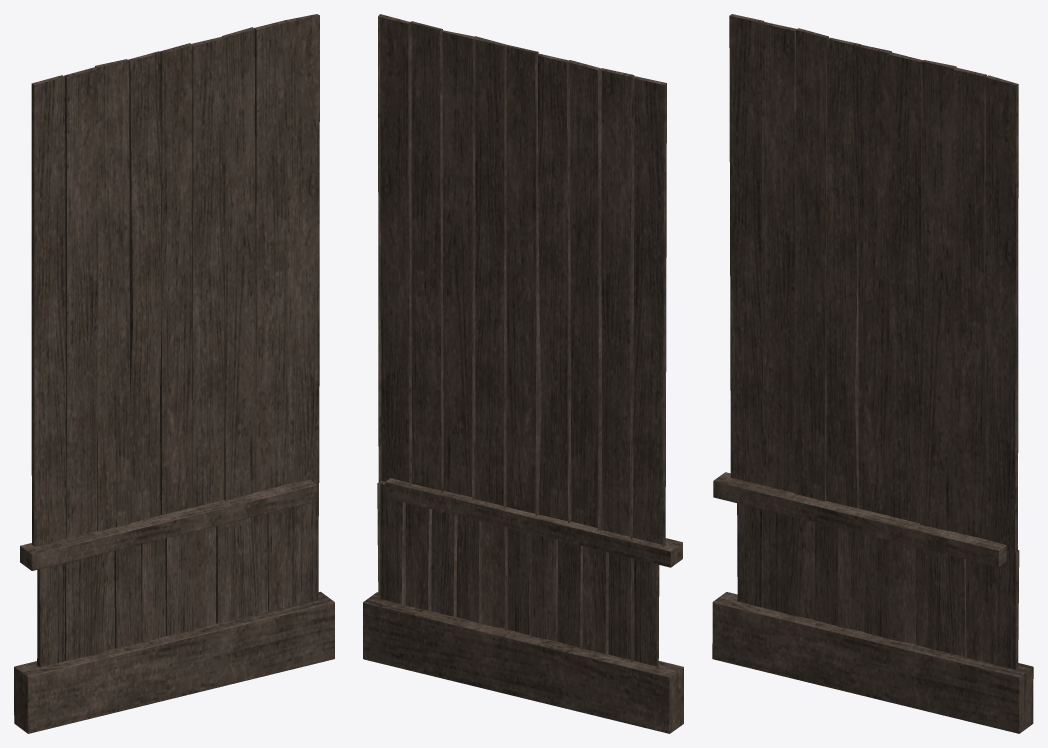
Rendered from Wall_Planks_A_001.fbx.
3 views of the same model, side by side, from view 1: azimuth 30°, elevation 25°; view 2: azimuth 150°, elevation 25°; view 3: azimuth 330°, elevation 25° (orthographic).
Visible parts, largest first — view 1: Wall_Planks_A_001; view 2: Wall_Planks_A_001; view 3: Wall_Planks_A_001.
Boxes of the visible parts, left/top/right/bottom form: Wall_Planks_A_001: left=14, top=14, right=334, bottom=733; Wall_Planks_A_001: left=363, top=14, right=683, bottom=733; Wall_Planks_A_001: left=712, top=14, right=1033, bottom=733.
Bounding box in the file's own units: 202 × 404 × 18.15.
Materials: 1 (1 with a texture image).
